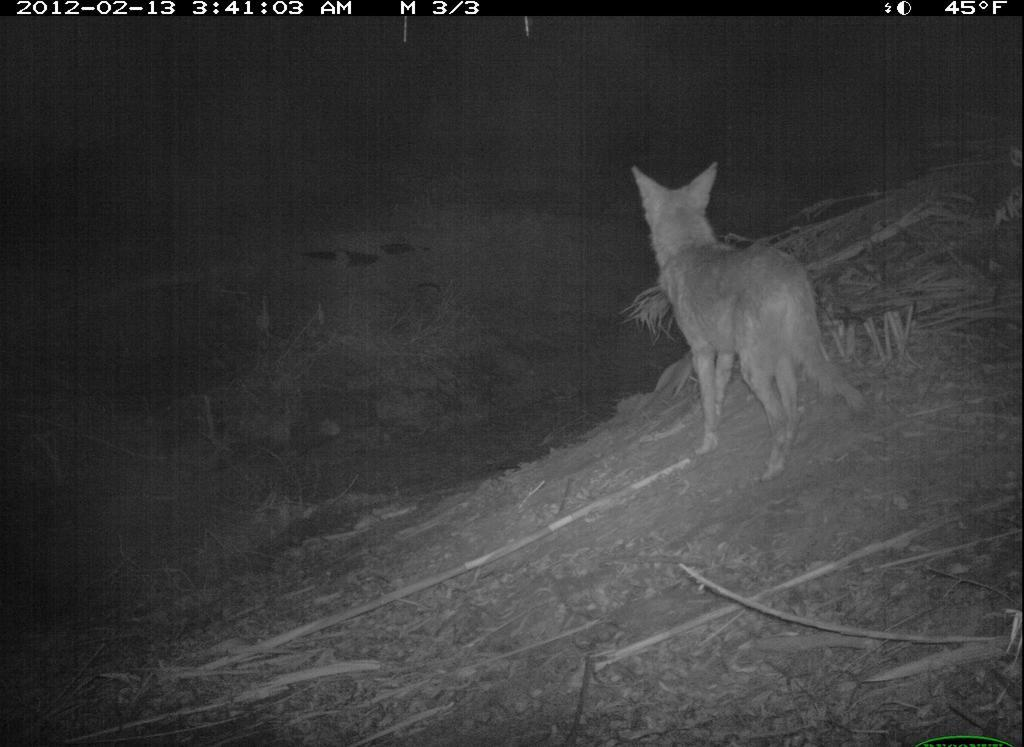coyote: (621, 148, 881, 496)
